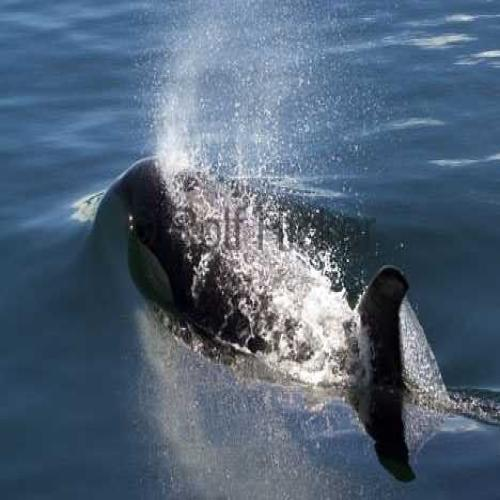killer_whale-endangered: (113, 124, 471, 472)
